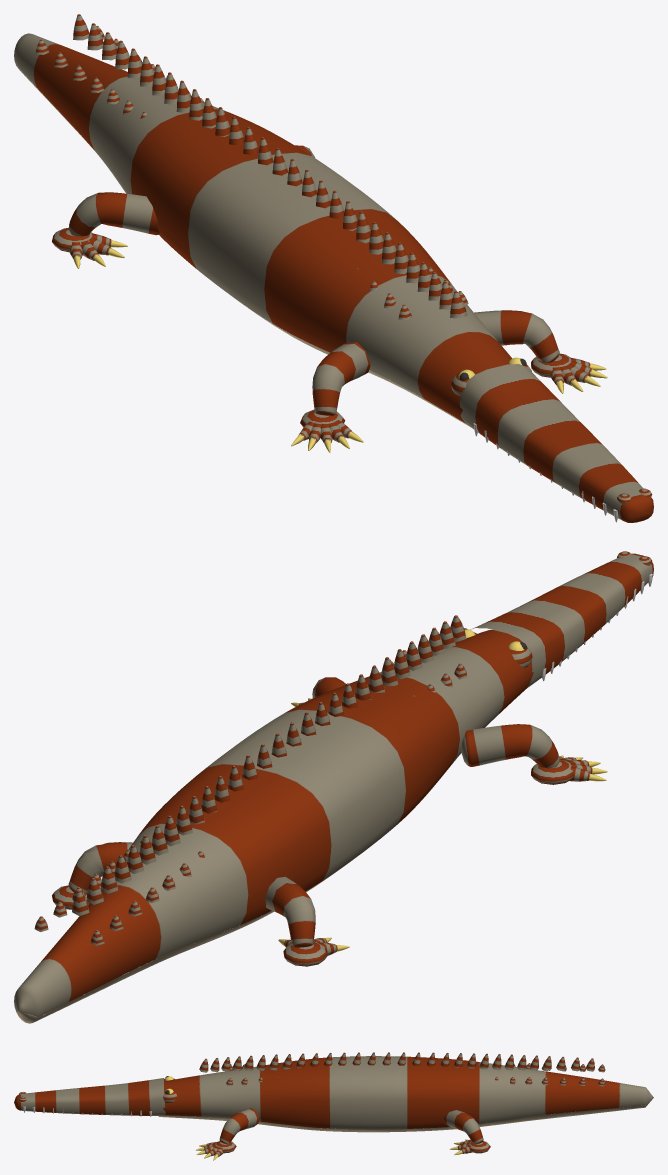
The model's file is birds-and-reptiles-hd-saltwater-crocodile-672e171d__28110.glb.
3 views of the same model, one above another, from view 1: azimuth 30°, elevation 25°; view 2: azimuth 150°, elevation 25°; view 3: azimuth 270°, elevation 25° (orthographic). The views are drawn at different scales.
Visible parts, largest first — view 1: saltwater-crocodile; view 2: saltwater-crocodile; view 3: saltwater-crocodile.
Part boxes in pixels (bbox=[...]): saltwater-crocodile: bbox=[14, 14, 653, 522]; saltwater-crocodile: bbox=[14, 551, 653, 1023]; saltwater-crocodile: bbox=[14, 1052, 653, 1160].
Size of the model in its own units: 1.3 by 0.5558 by 4.46.
Materials: 5 (3 with a texture image).
